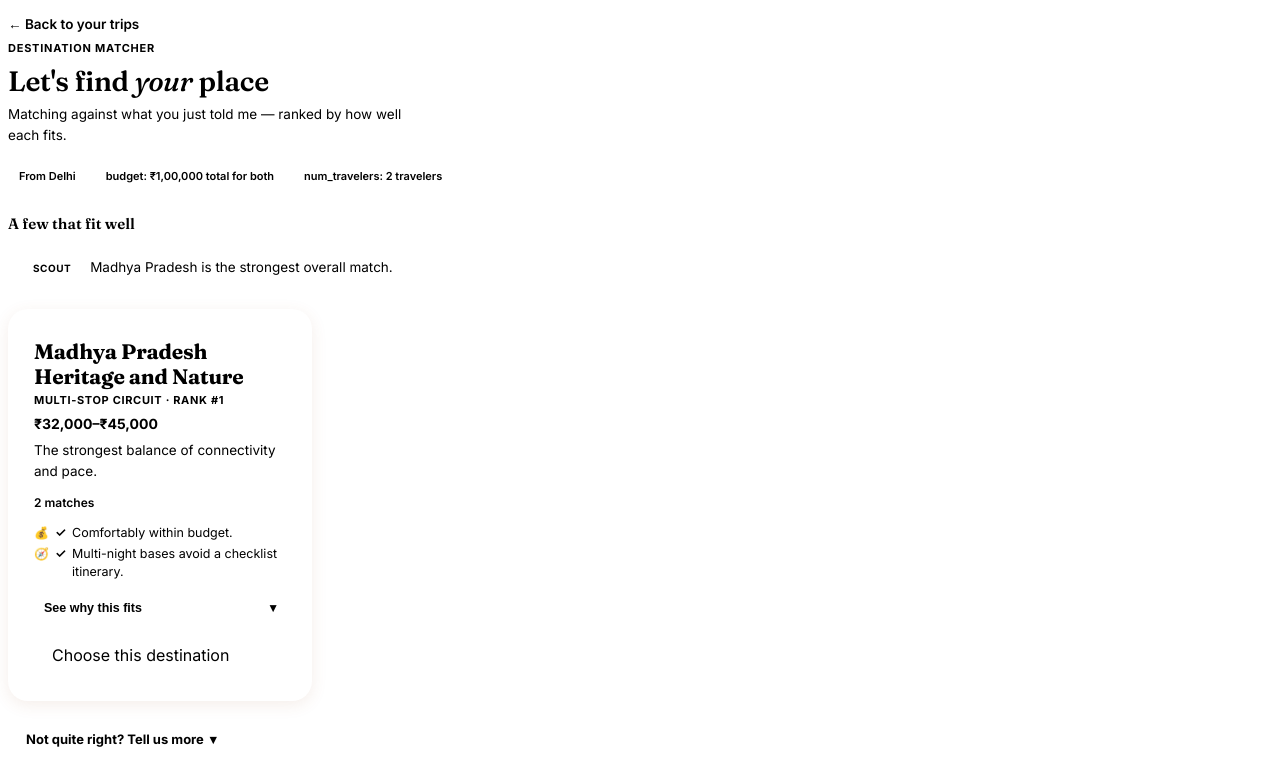
Test: Destinations (real Meridian integration) › refetches the latest trip on a 409 conflict from select_destination
Expected: the button "Madhya Pradesh Heritage and Nature" is shown, [34,339,286,390]
Step 1. Click the button "Choose this destination" → [141, 656], box [34,634,247,678]
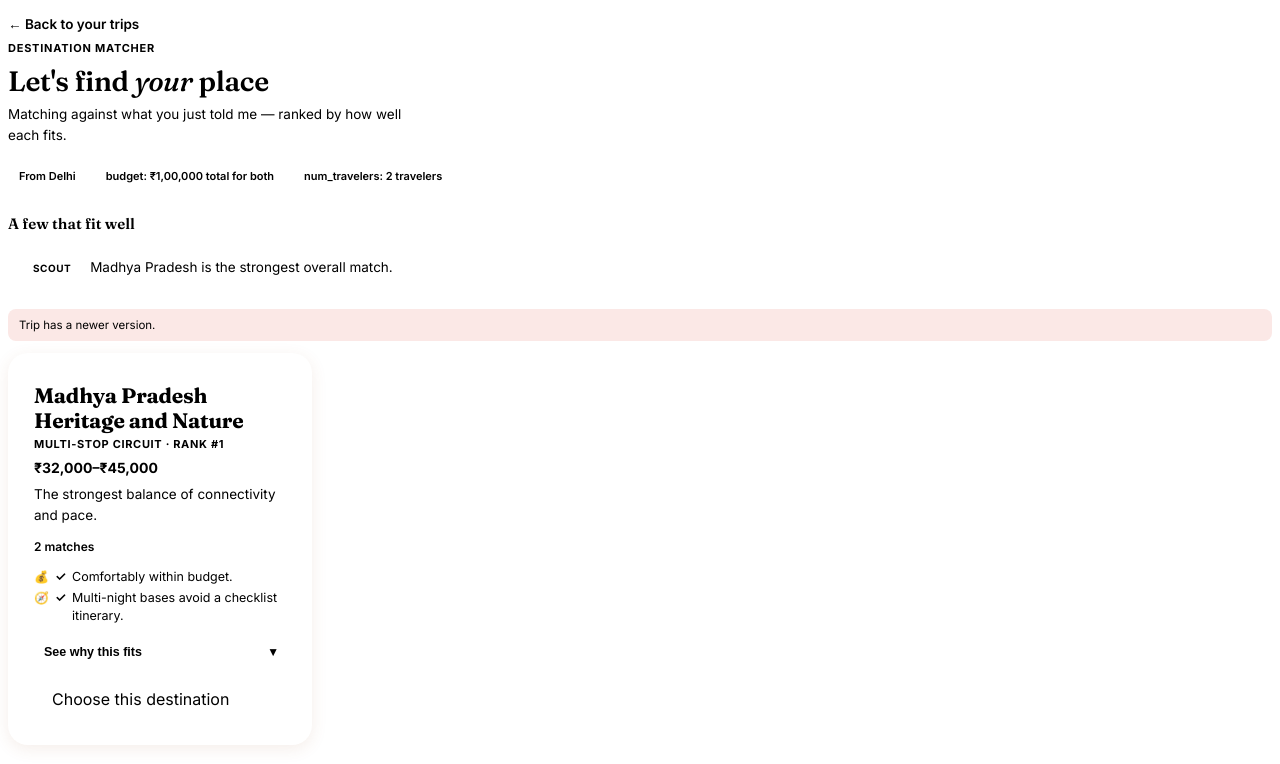
Now the text "Trip has a newer version." is shown, box [8,309,1272,341]
